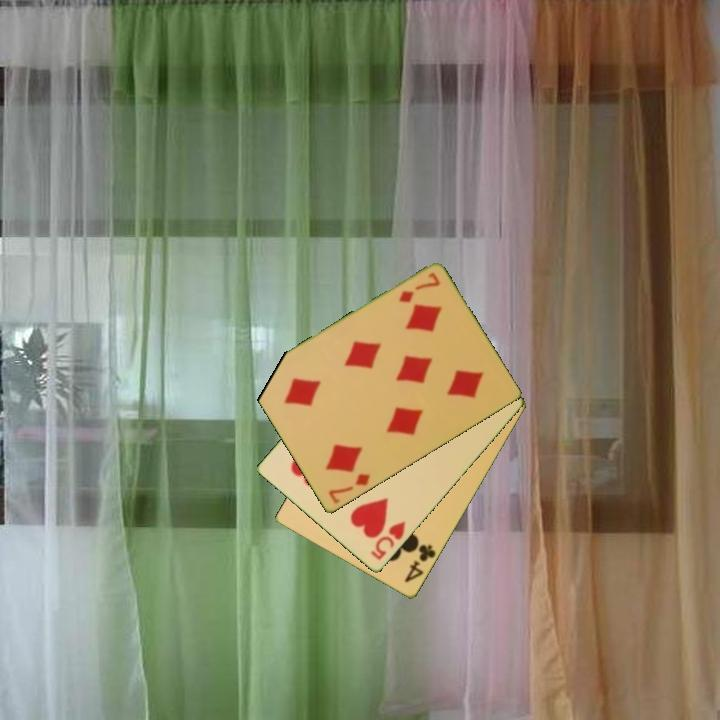4c: (401, 541, 439, 586)
5h: (367, 518, 409, 563)
7d: (325, 470, 373, 507), (395, 269, 443, 306)
